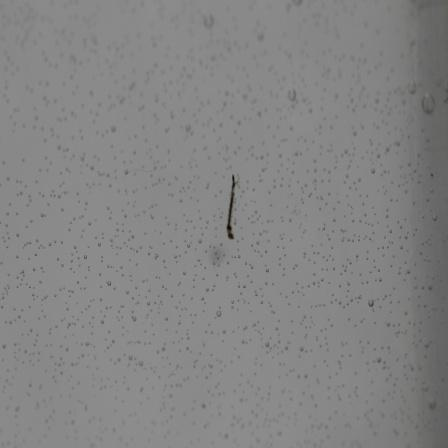Jentik-Nyamuk: (222, 172, 242, 242)
